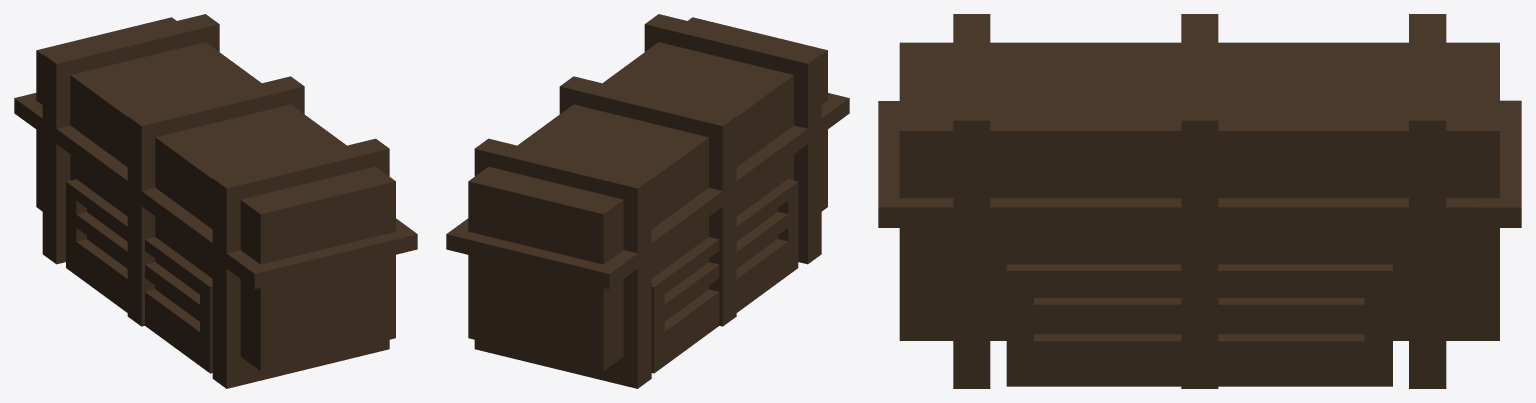
Rendered from Crates.fbx.
3 views of the same model, side by side, from view 1: azimuth 30°, elevation 25°; view 2: azimuth 150°, elevation 25°; view 3: azimuth 270°, elevation 25° (orthographic). The views are drawn at different scales.
Parts seen in each view (by area): view 1: DeepCrate_Closed, ShallowCrate_Open; view 2: DeepCrate_Closed, ShallowCrate_Open; view 3: DeepCrate_Closed, ShallowCrate_Open.
Boxes of the visible parts, box(x1,y1,x2,y2) form: DeepCrate_Closed: box(14, 14, 417, 388); ShallowCrate_Open: box(66, 179, 212, 373); DeepCrate_Closed: box(446, 14, 849, 388); ShallowCrate_Open: box(651, 179, 798, 373); DeepCrate_Closed: box(878, 14, 1521, 388); ShallowCrate_Open: box(1006, 264, 1392, 386).
Bounding box in the file's own units: 118 × 138 × 300.
